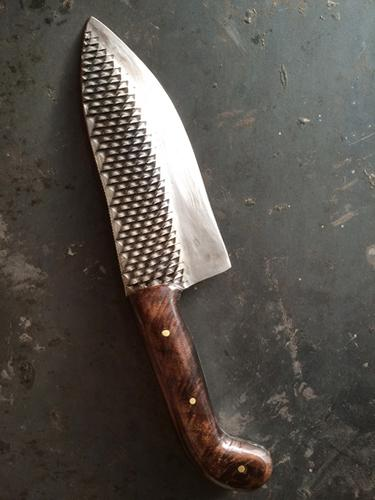knife: (80, 14, 275, 491)
